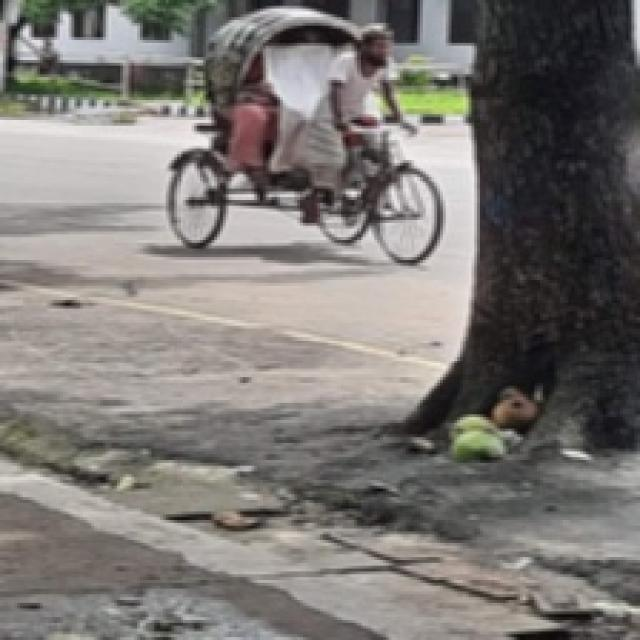rickshaw: (165, 13, 442, 260)
